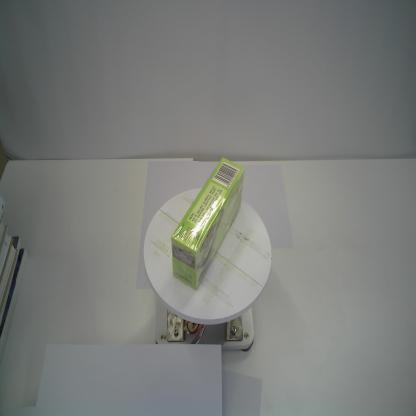Instant Drink: (172, 156, 245, 289)
